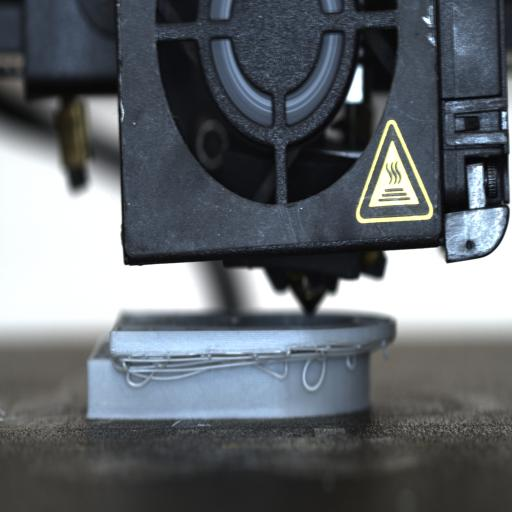layer_shift: (90, 335, 404, 372)
